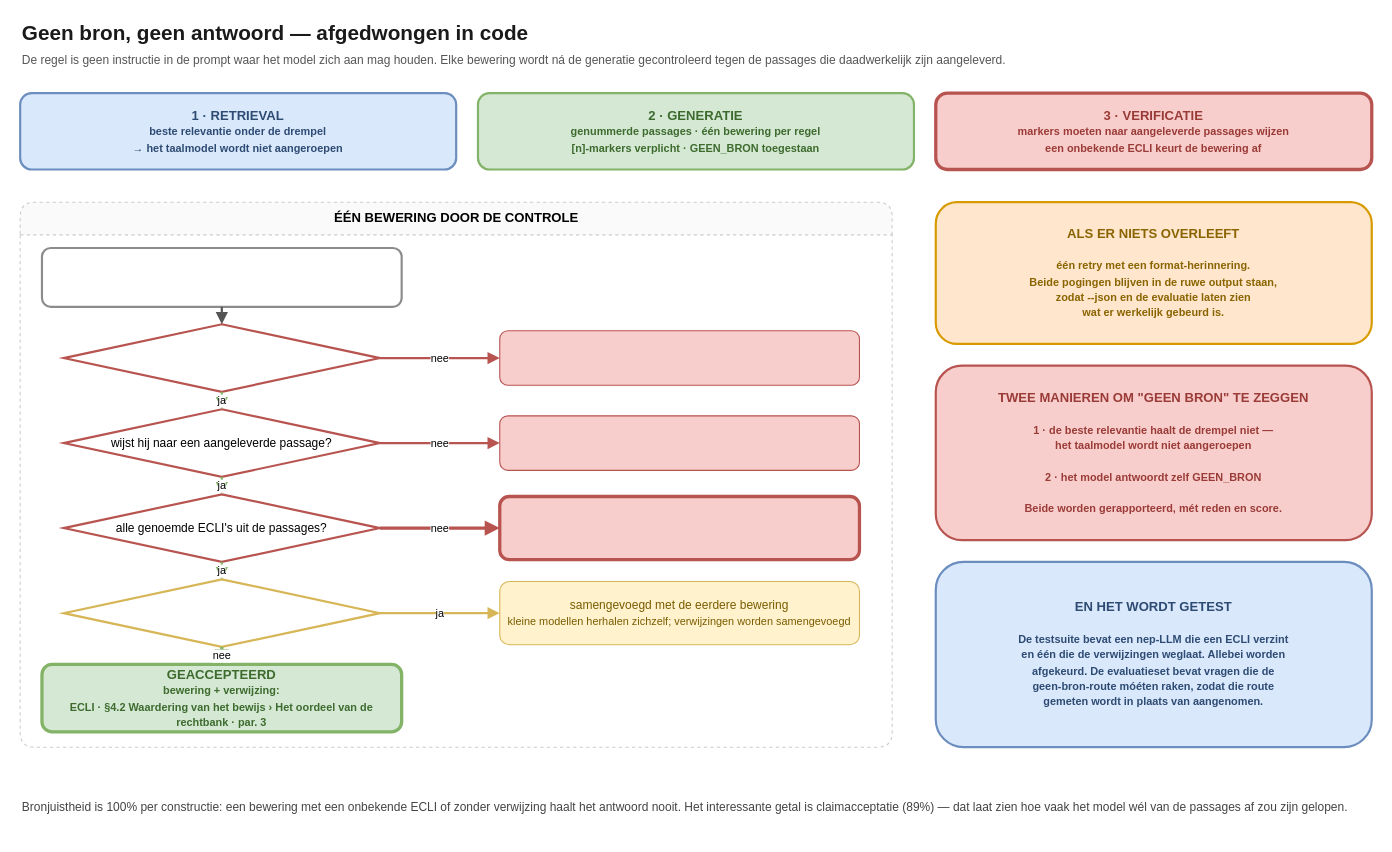
This 1392x852 diagram has some shape labels left out. Here are the shapes that lost their labels. From the top down, the box of each, then its label:
(40, 246, 402, 307): regel uit de ruwe output bullets en nummering worden gestript
(62, 323, 380, 392): staat er een [n]-marker?
(499, 330, 859, 385): afgekeurd — "geen verwijzing naar een passage"
(499, 415, 859, 470): afgekeurd — "verwijzing naar niet-aangeleverde passage"
(498, 494, 861, 561): afgekeurd — "ECLI niet in de passages" het klassieke verzonnen zaaknummer
(62, 578, 380, 647): al eerder gezegd?
